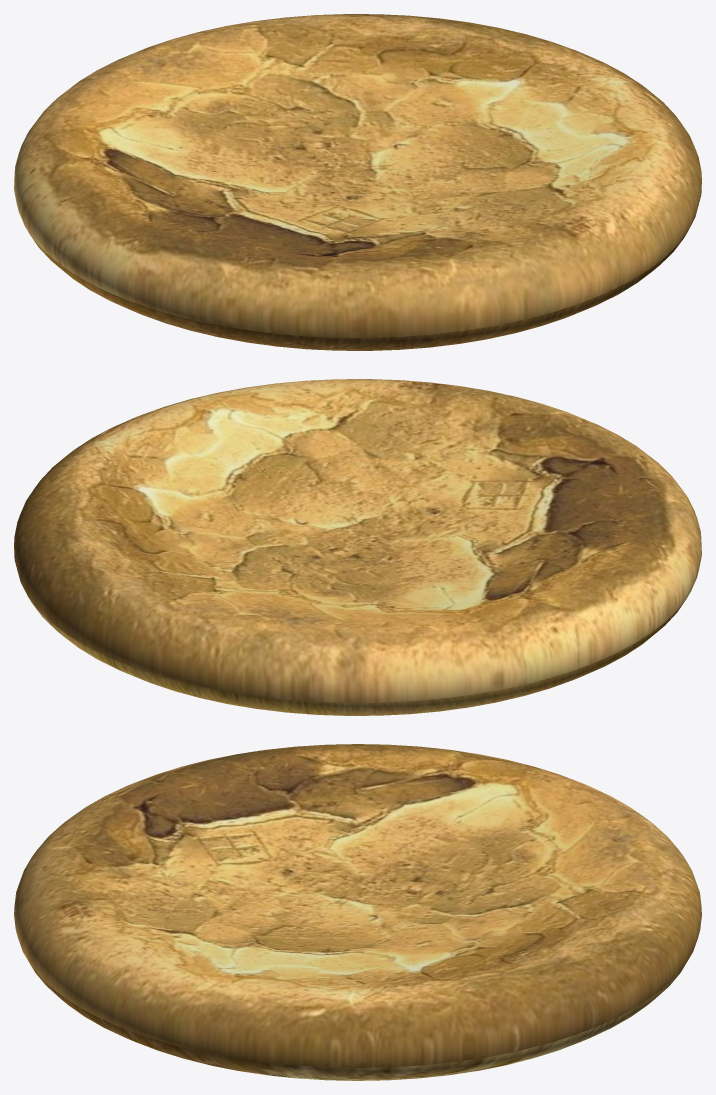
The model's file is 汉代金饼.FBX.
3 renders of one model, top to bottom at view 1: azimuth 30°, elevation 25°; view 2: azimuth 150°, elevation 25°; view 3: azimuth 270°, elevation 25°, orthographic.
Parts seen in each view (by area): view 1: Line001; view 2: Line001; view 3: Line001.
Boxes of the visible parts, box(x1,y1,x2,y2) form: Line001: box(14, 14, 701, 350); Line001: box(14, 379, 701, 715); Line001: box(14, 744, 701, 1080).
Bounding box in the file's own units: 27.18 × 5.07 × 27.18.
Materials: 2 (2 with a texture image).
